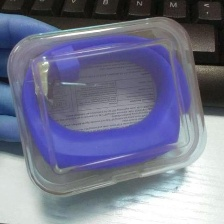plastic_box: (1, 9, 214, 204)
